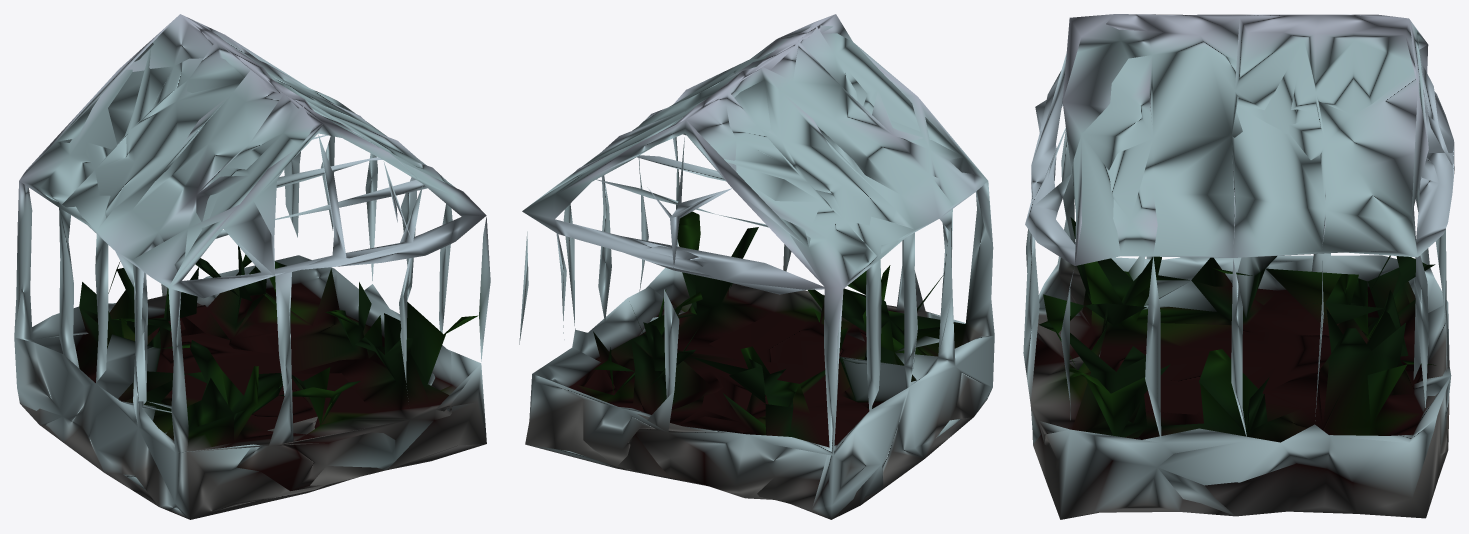
The model's file is gen3d-greenhouse-lod0.glb.
3 renders of one model, left to right at view 1: azimuth 30°, elevation 25°; view 2: azimuth 150°, elevation 25°; view 3: azimuth 270°, elevation 25°, orthographic. The views are drawn at different scales.
Visible parts, largest first — view 1: part_0; view 2: part_0; view 3: part_0.
Part boxes in pixels (x1=…): part_0: x1=14, y1=14, x2=490, y2=519; part_0: x1=519, y1=14, x2=994, y2=519; part_0: x1=1023, y1=14, x2=1454, y2=519.
Bounding box in the file's own units: 0.915 × 0.99 × 0.9196.
